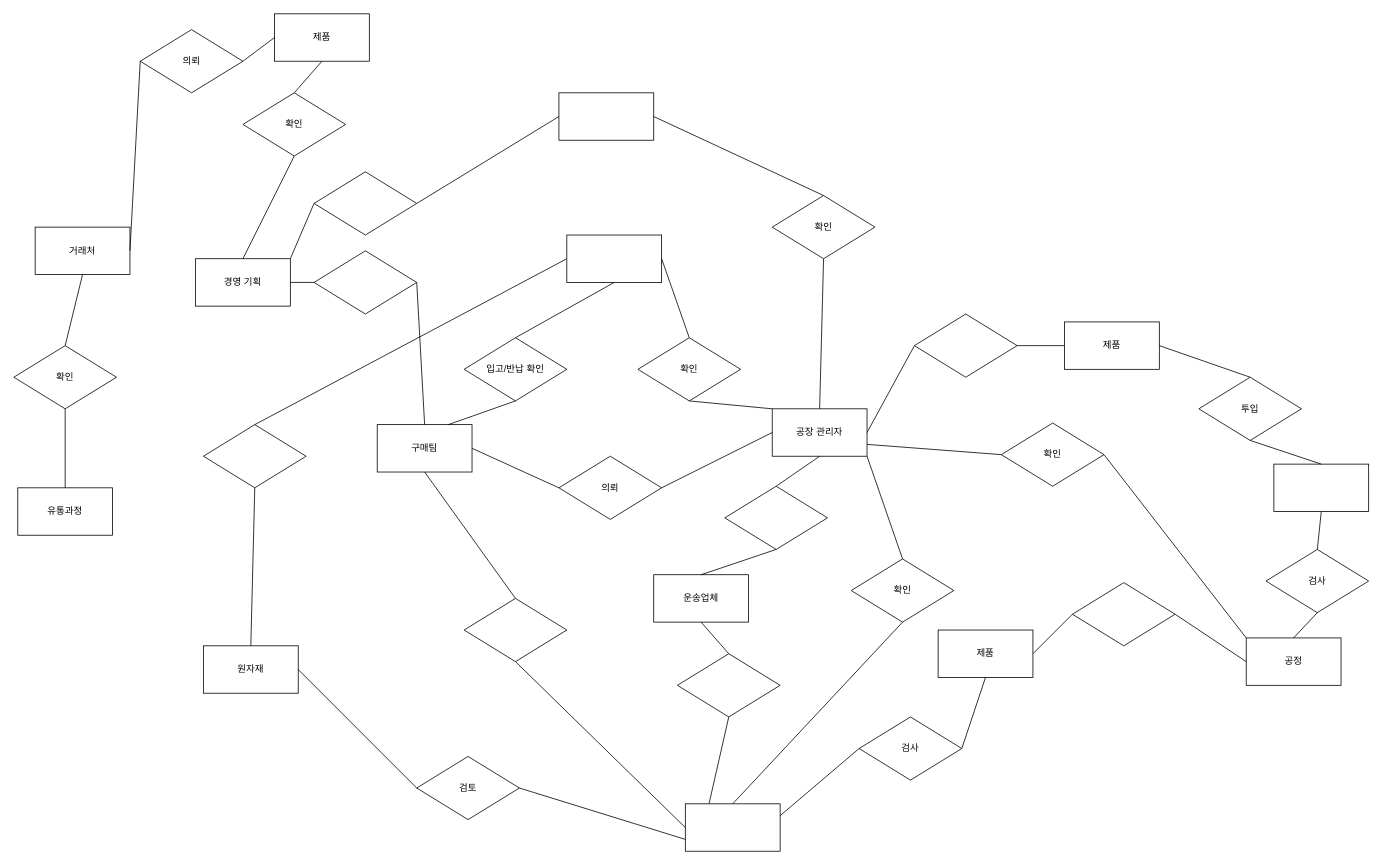
The diagram is 1383 pixels wide and 865 high, and some of its shapes have lost their labels. Each missing label, with the centre of its shape:
거래처 항목: point (606, 116)
견적 요청: point (365, 282)
계획: point (965, 345)
도착 확인 여부: point (515, 630)
등록: point (365, 203)
배송: point (728, 685)
배송 의뢰: point (776, 517)
완성: point (1123, 614)
입고/반납: point (254, 456)
자재: point (1321, 487)
창고: point (614, 258)
품질관리팀: point (732, 827)
